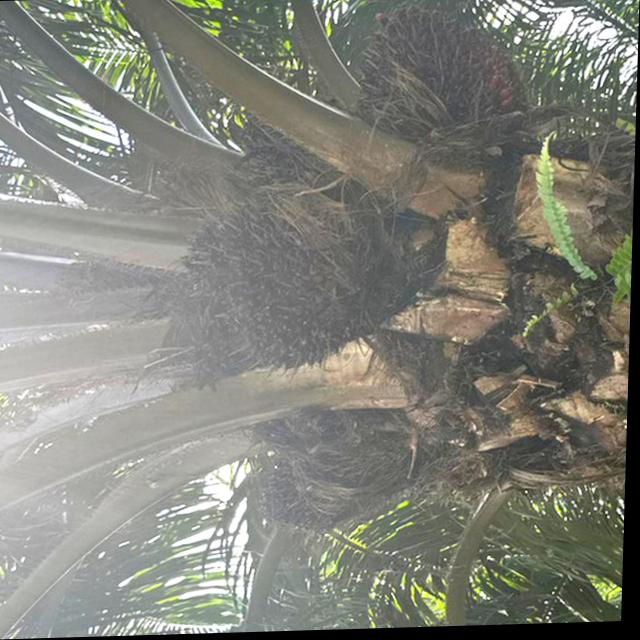ripe: (173, 188, 381, 379), (355, 1, 517, 175)
